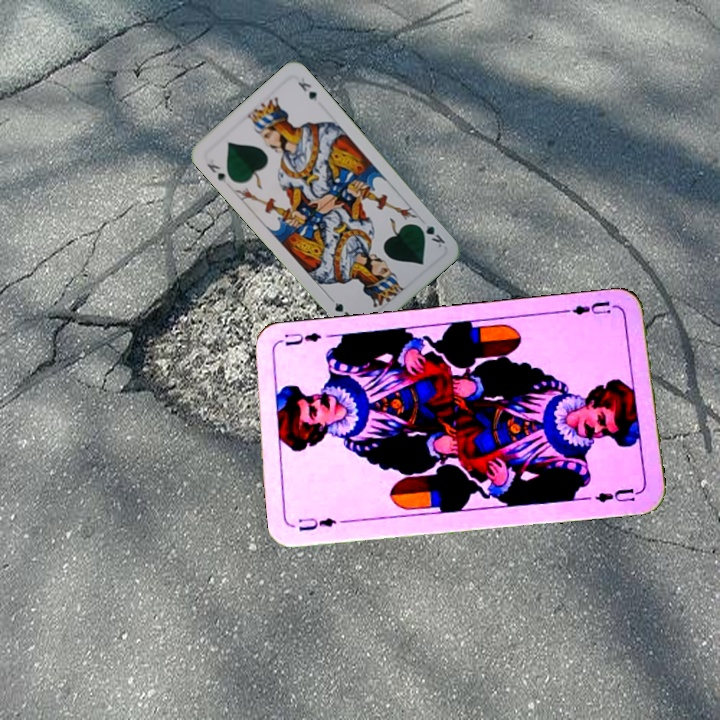EU: (562, 297, 621, 318), (294, 513, 339, 534)
GK: (413, 220, 448, 250), (202, 159, 229, 186)
